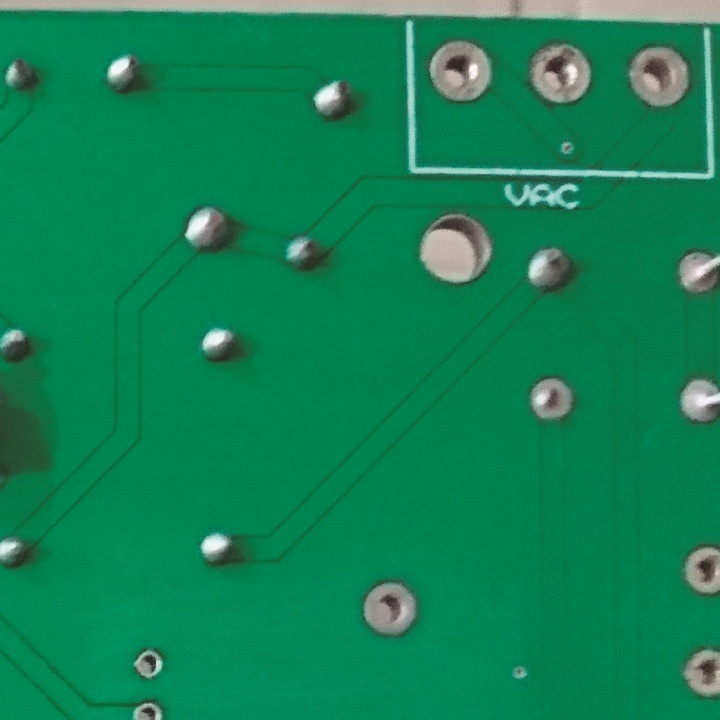F: (524, 38, 595, 108), (624, 41, 693, 111), (430, 39, 496, 105), (359, 578, 422, 639), (528, 371, 576, 429), (676, 370, 720, 425), (680, 640, 720, 697), (676, 246, 720, 295), (682, 543, 720, 598), (128, 649, 167, 683), (130, 700, 166, 720)
